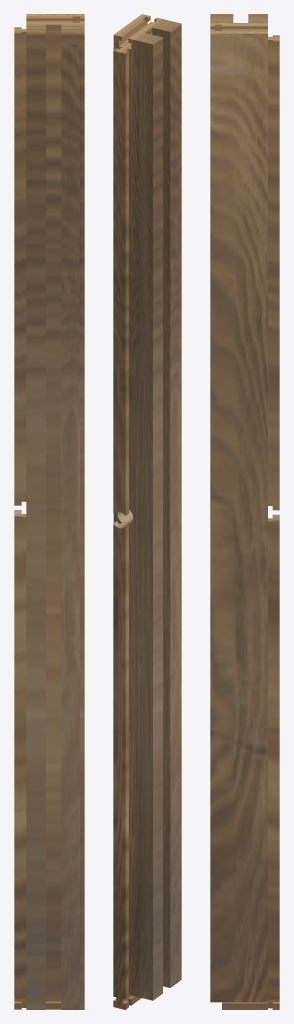
The model's file is piquet_bois.glb.
The picture shows the model from 3 angles, left to right: view 1: azimuth 90°, elevation 25°; view 2: azimuth 150°, elevation 25°; view 3: azimuth 270°, elevation 25°; orthographic projection. The views are drawn at different scales.
Parts seen in each view (by area): view 1: piquet_bois; view 2: piquet_bois; view 3: piquet_bois.
Part boxes in pixels (x1=…): piquet_bois: x1=14, y1=14, x2=84, y2=1009; piquet_bois: x1=113, y1=14, x2=181, y2=1009; piquet_bois: x1=210, y1=14, x2=279, y2=1009.
Bounding box in the file's own units: 0.0621 × 1.45 × 0.0933.
1 material, 1 textured.
